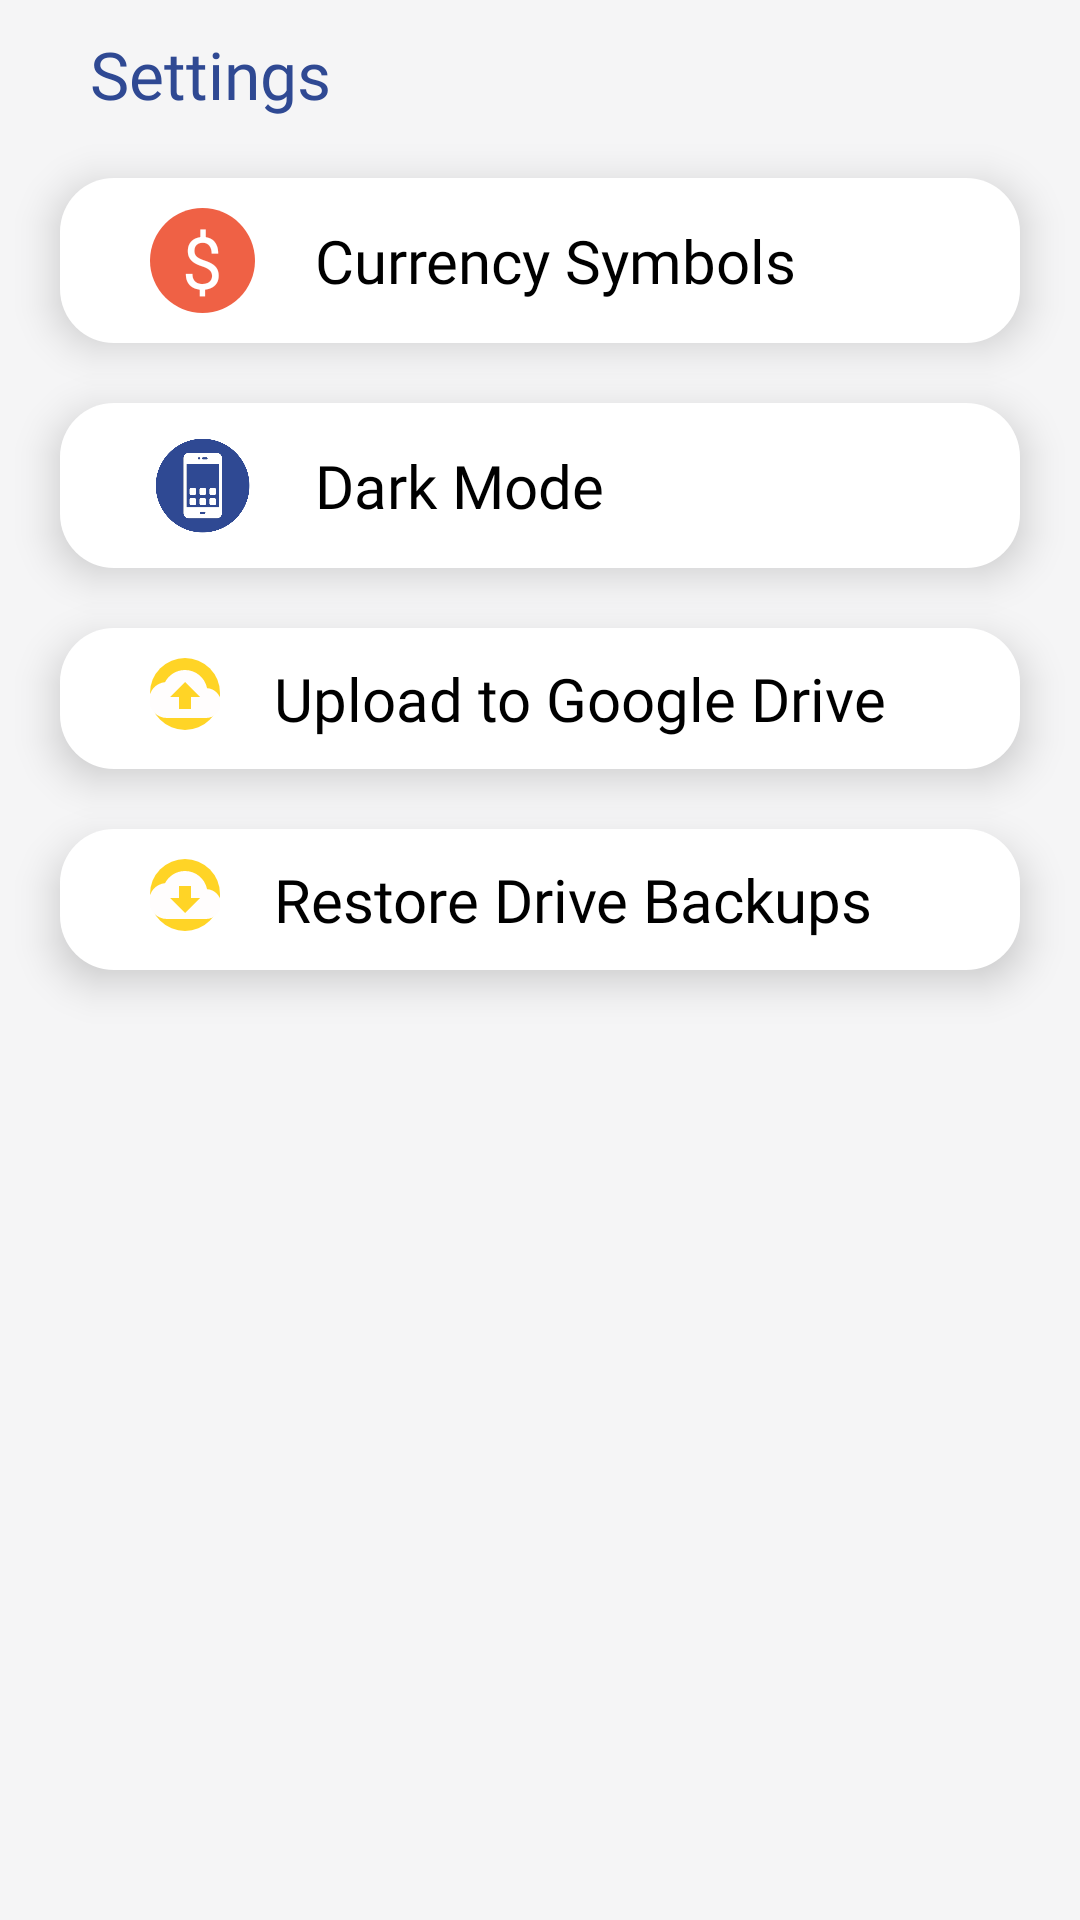

Screen size 1080x1920. Icon name, then its box in pixels as Rect(x1, y1, x2, y2):
cloud download: Rect(150, 859, 220, 931)
cloud upload: Rect(150, 658, 220, 730)
